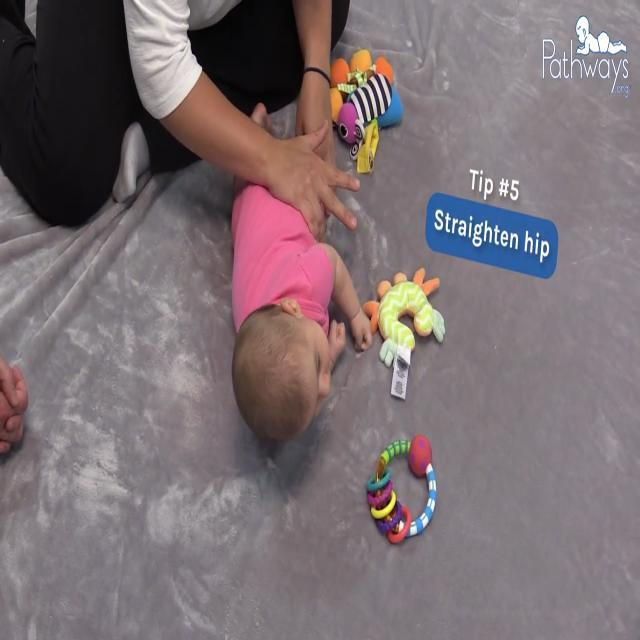baby: (225, 87, 378, 450)
